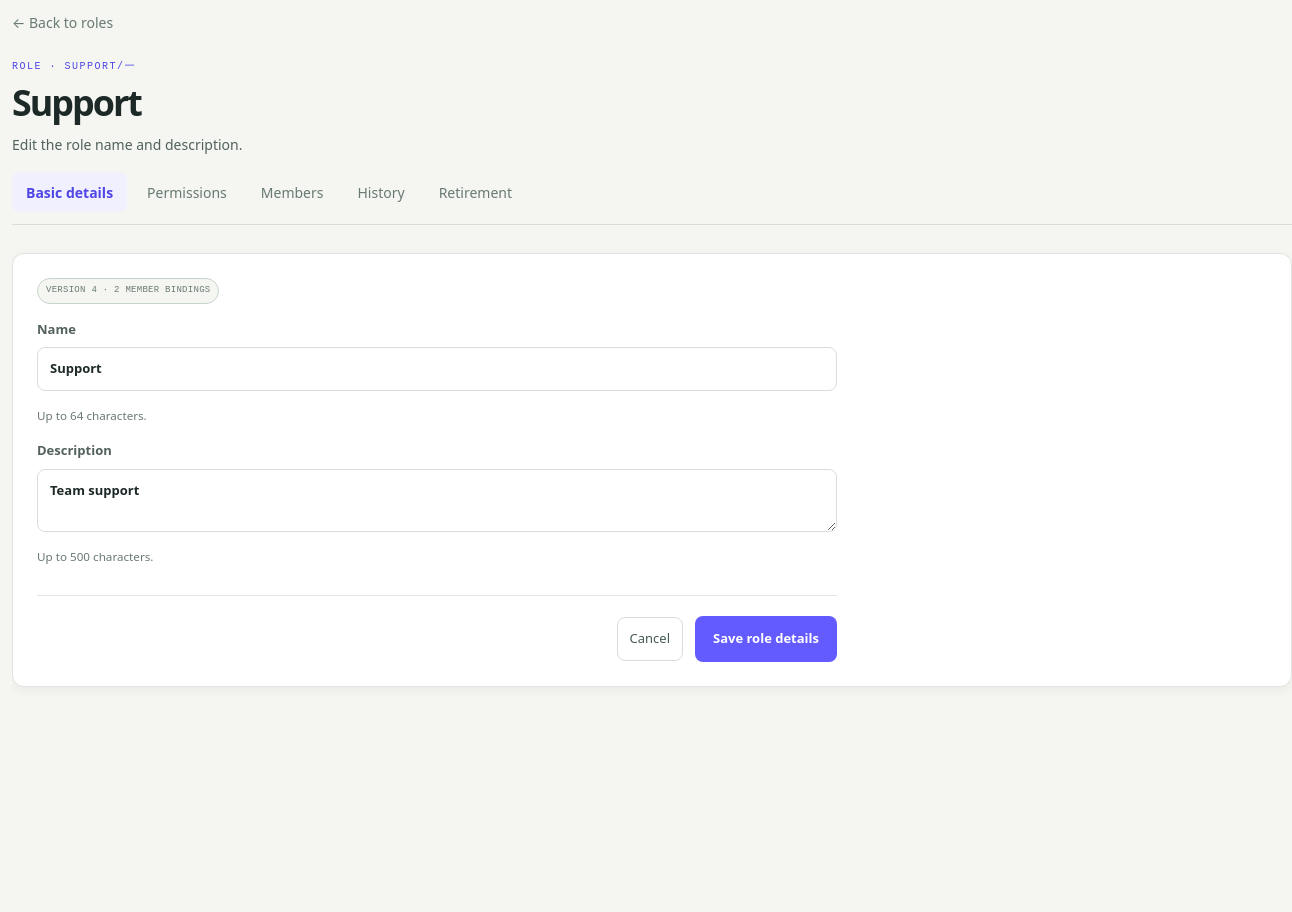
Test: opens an encoded role deep link and renders only its requested task
The width and height of the screenshot is (1292, 912).
Expected: the text box showing "Team support" is shown, 37,469 -> 837,532
Expected: the text "Permission grants" is not shown
Click the link "Permissions" at [187, 192], box 147,183 -> 227,202
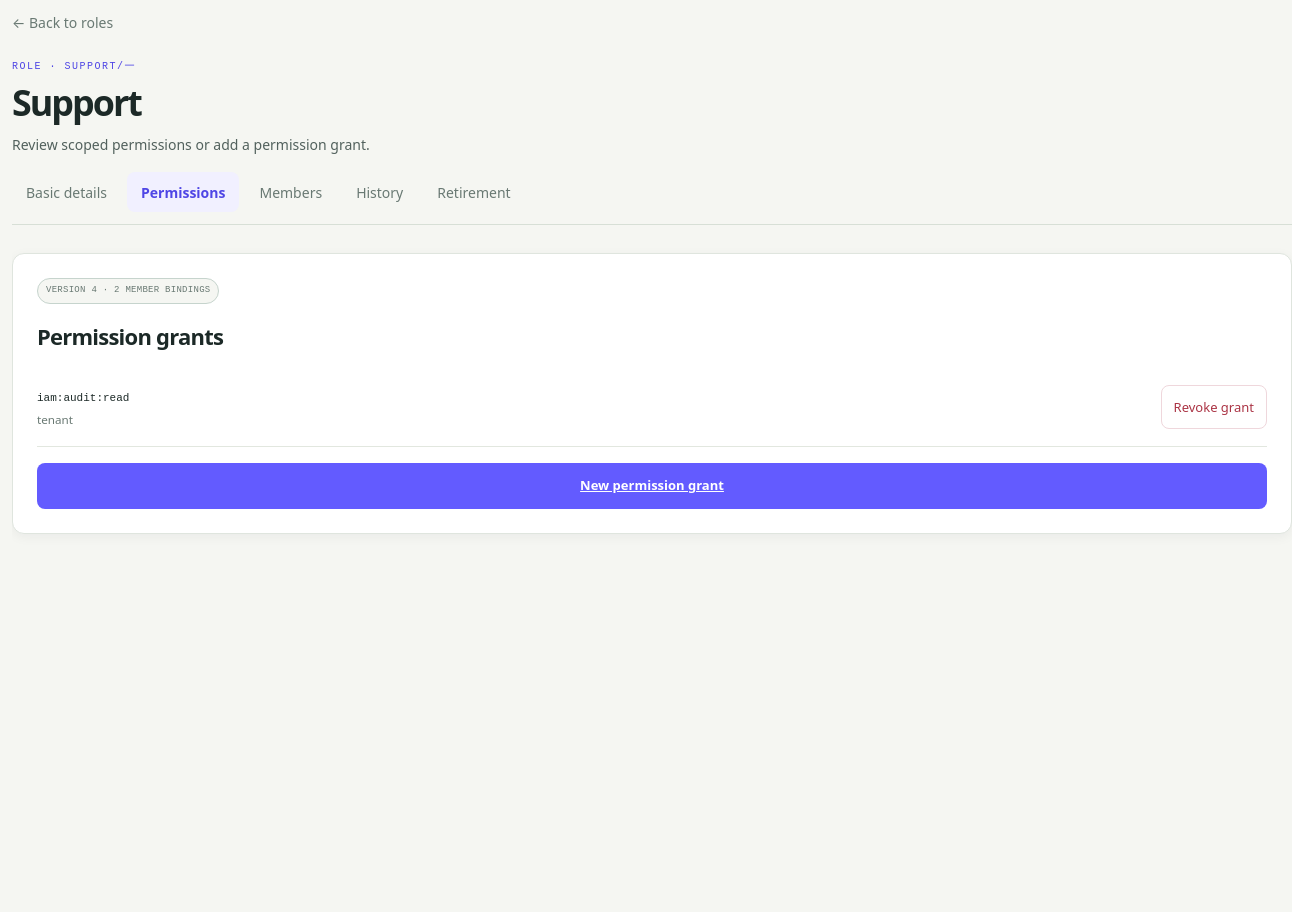
Now the heading "Permission grants" is shown, box 37,321 -> 223,351
Now the text labelled "name" is gone
